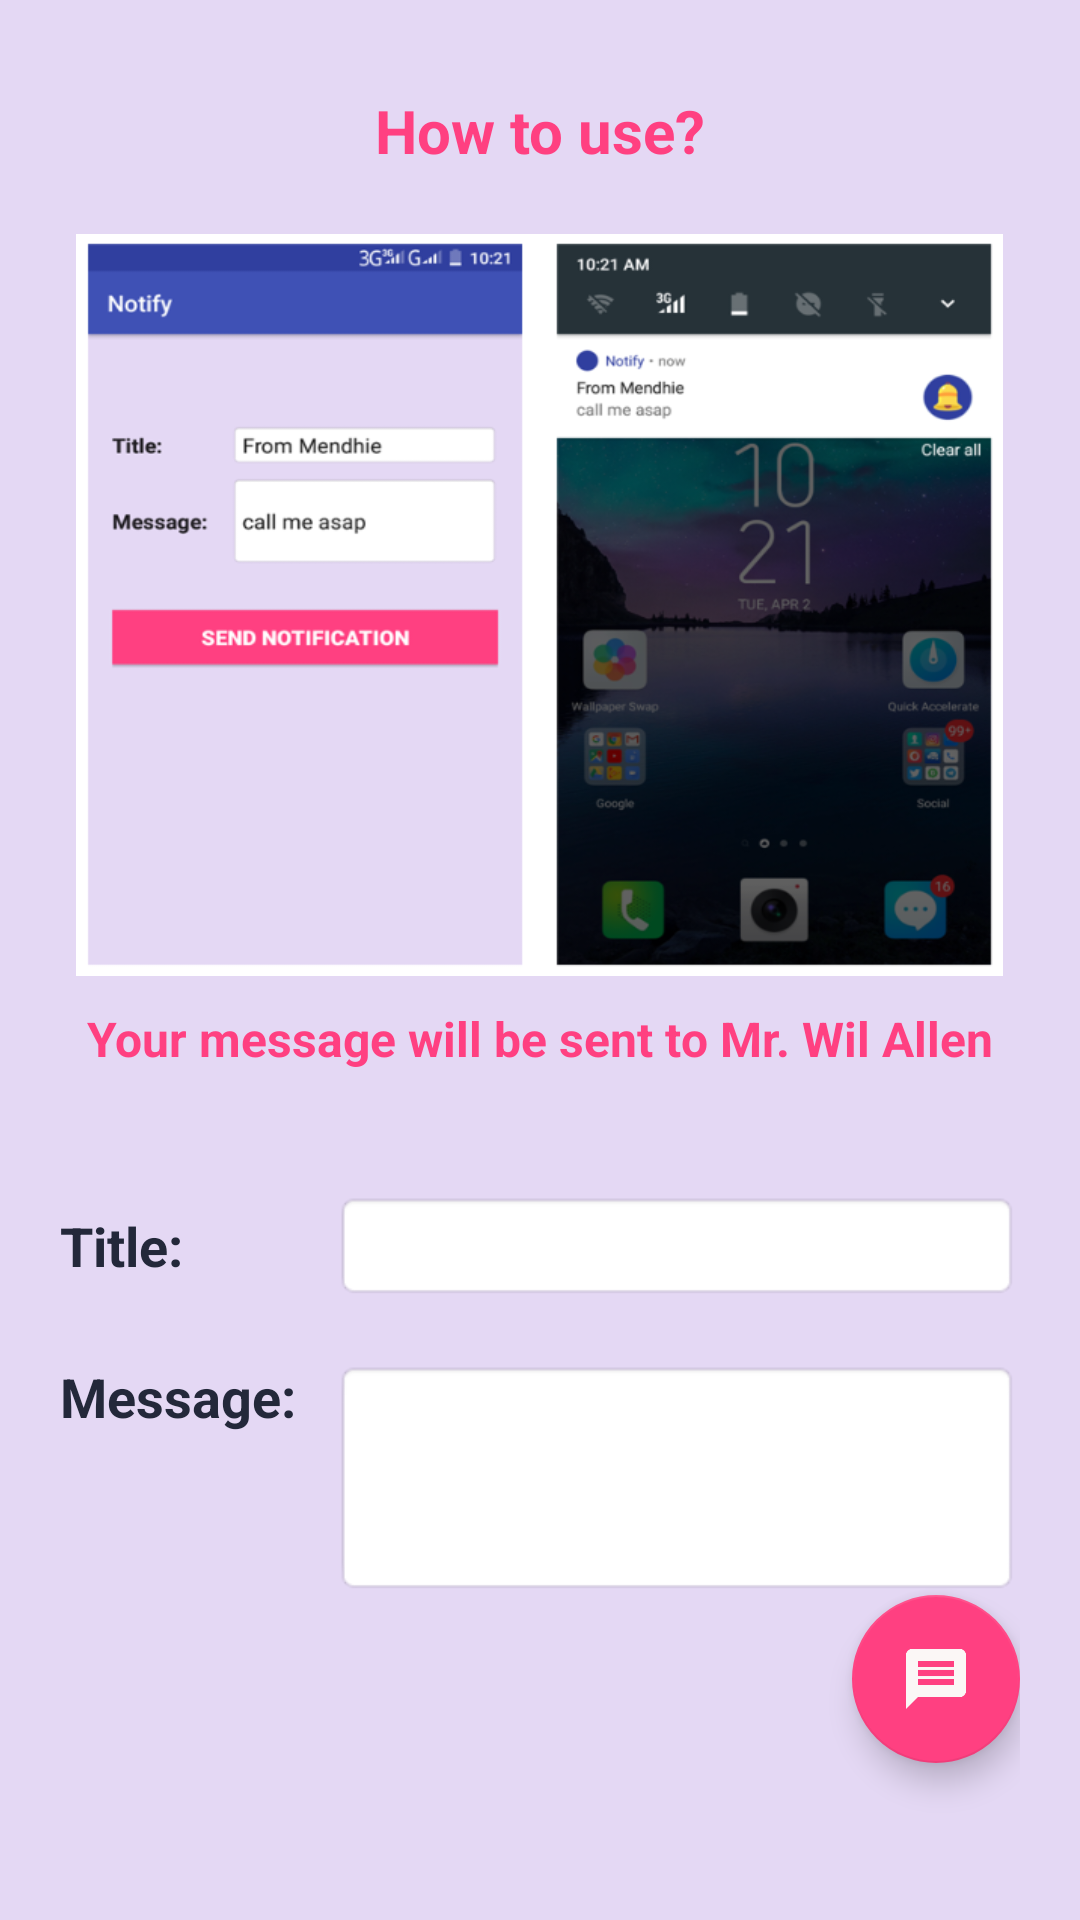

Named icons in this screenshot (1080*1920) and their centers, (x,y):
message: (936,1679)
